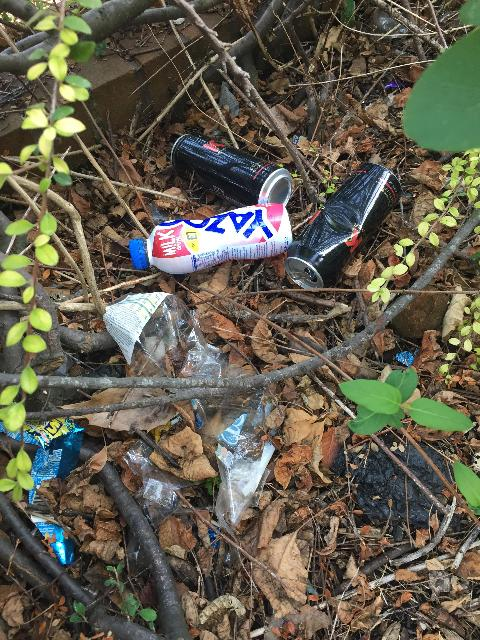metal: (284, 163, 402, 288), (171, 134, 291, 206)
plastic: (135, 204, 292, 274)
